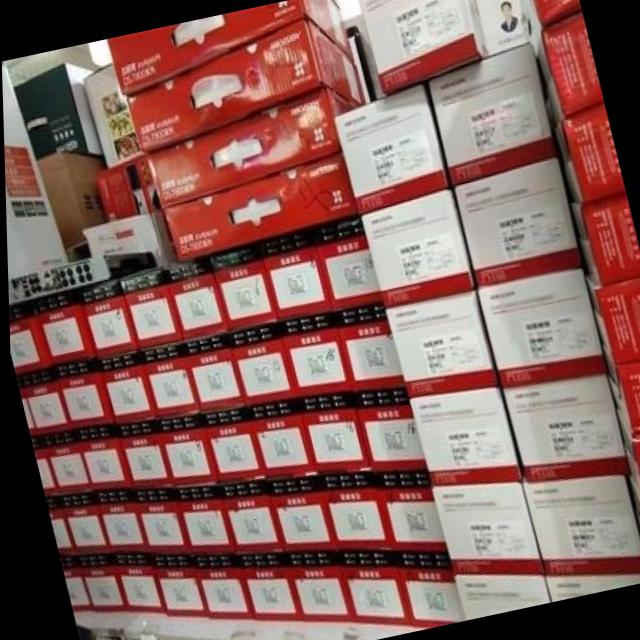box: (125, 17, 366, 152), (144, 87, 361, 206), (107, 0, 352, 96), (161, 152, 355, 262), (426, 41, 557, 185), (450, 158, 580, 286), (332, 82, 447, 215), (475, 267, 602, 386), (1, 60, 66, 275), (498, 373, 626, 482), (359, 186, 473, 304), (382, 288, 496, 397), (358, 0, 488, 95), (519, 474, 640, 573), (408, 388, 517, 485), (430, 484, 540, 574), (13, 64, 101, 159), (536, 11, 602, 127), (552, 101, 623, 200), (567, 193, 640, 286), (308, 215, 380, 309), (257, 227, 329, 321), (348, 386, 424, 472), (207, 241, 277, 332), (294, 390, 368, 475), (331, 301, 401, 390), (81, 62, 139, 168), (277, 310, 346, 396), (370, 469, 443, 550), (81, 208, 178, 268), (314, 471, 389, 548), (243, 396, 314, 477), (332, 549, 407, 625), (226, 323, 294, 404), (391, 549, 460, 628), (161, 254, 225, 338), (29, 287, 94, 366), (263, 475, 331, 550), (180, 332, 243, 412), (280, 548, 350, 620), (583, 277, 640, 363), (198, 406, 261, 483), (76, 278, 137, 356), (136, 340, 197, 418), (119, 267, 177, 349), (215, 479, 280, 552), (92, 153, 160, 221), (449, 575, 546, 620), (232, 552, 296, 620), (153, 413, 214, 484), (51, 359, 111, 429), (96, 350, 153, 423), (170, 485, 232, 552), (187, 552, 249, 618), (111, 418, 170, 486), (128, 486, 187, 552), (145, 551, 203, 616), (599, 344, 640, 435), (72, 423, 127, 489), (519, 0, 582, 56), (90, 488, 144, 552), (18, 368, 68, 436), (107, 552, 161, 614), (56, 489, 107, 554), (40, 430, 90, 496), (7, 301, 49, 374), (74, 554, 123, 612), (477, 0, 530, 53), (541, 574, 640, 602), (612, 407, 640, 506), (629, 483, 640, 542)
